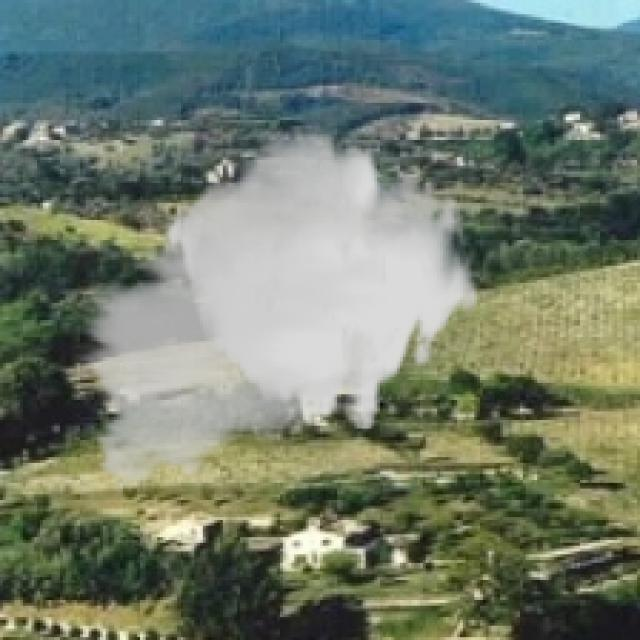Smoke: (71, 126, 480, 500)
